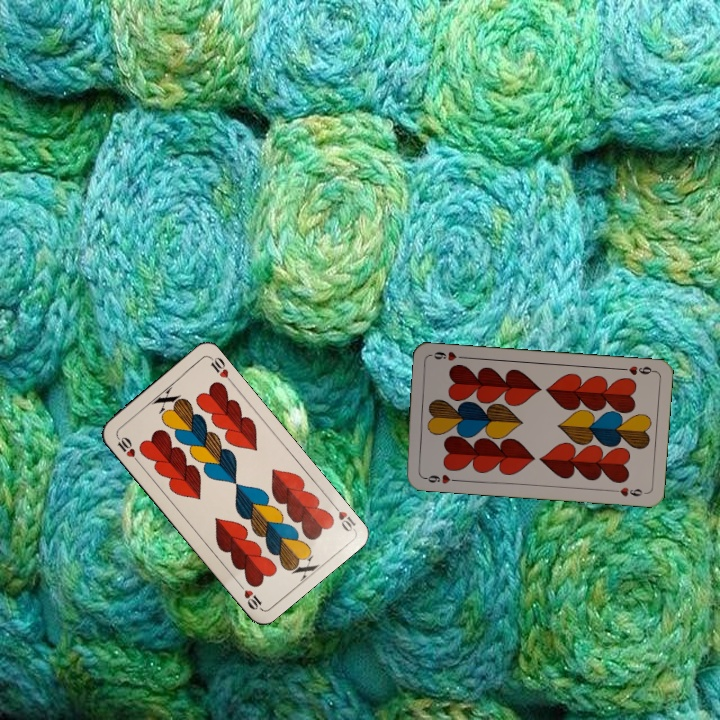H10: (327, 498, 358, 534), (113, 432, 143, 466)
H9: (616, 362, 657, 378), (419, 470, 460, 486)
